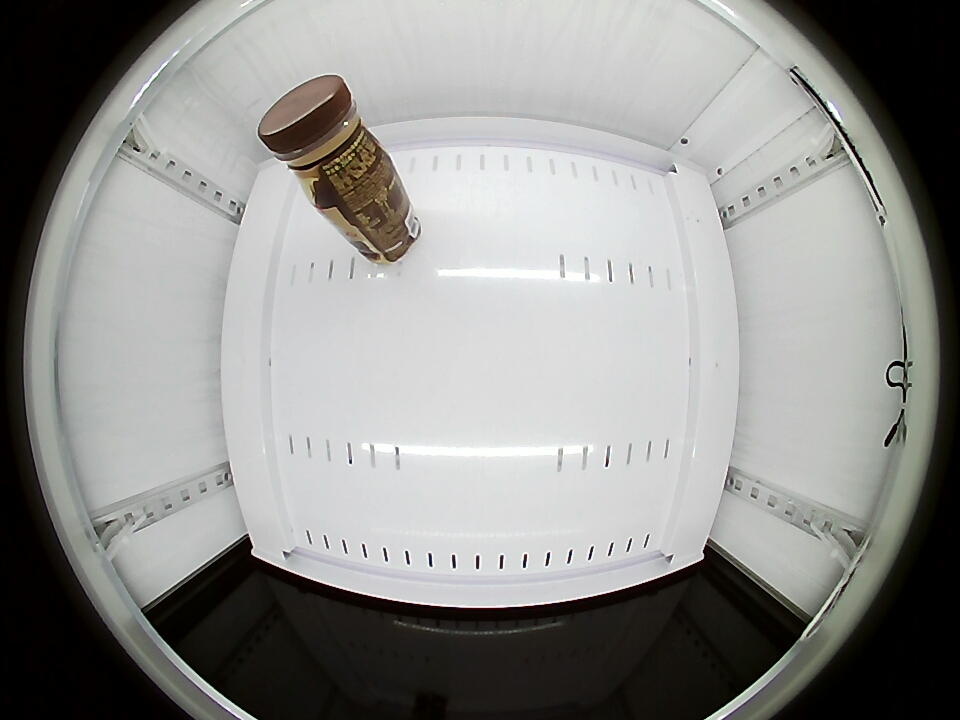lujikafei: (257, 75, 382, 206)
